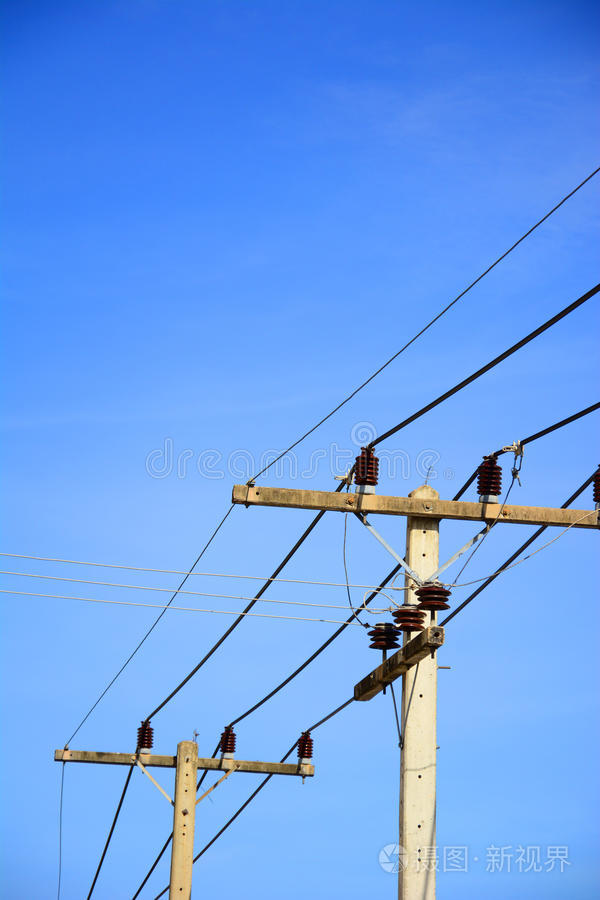insulator: (413, 580, 452, 611), (392, 604, 426, 631), (367, 623, 399, 649)
